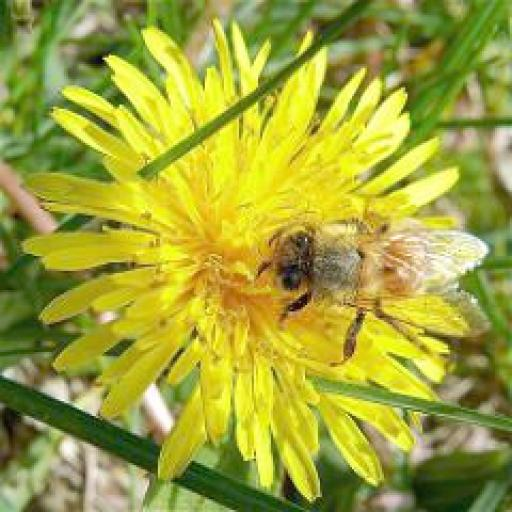dandelion: (40, 24, 472, 470)
